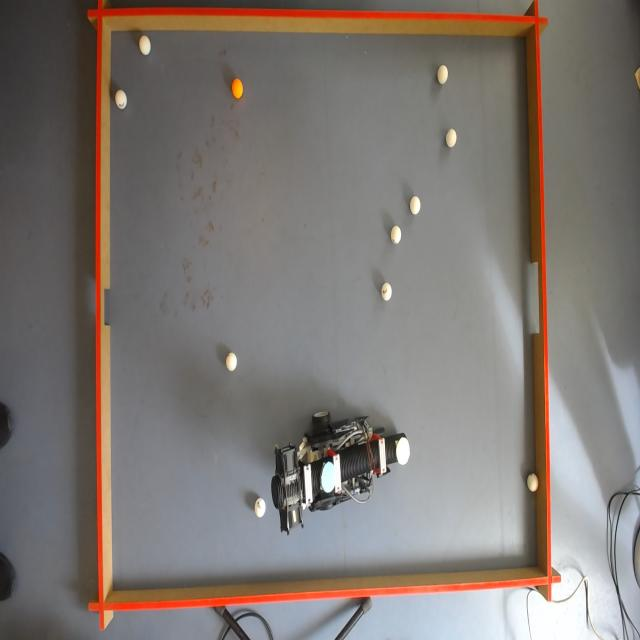orange: (232, 77, 244, 98)
robot: (270, 408, 410, 534)
robot-front: (394, 437, 410, 468)
robot-rear: (318, 461, 338, 494)
white: (255, 497, 268, 519), (138, 36, 151, 58), (226, 353, 240, 373), (116, 89, 130, 109), (445, 128, 458, 148), (437, 63, 449, 84), (380, 283, 392, 302), (528, 473, 540, 492), (392, 226, 404, 244), (411, 197, 422, 214)
